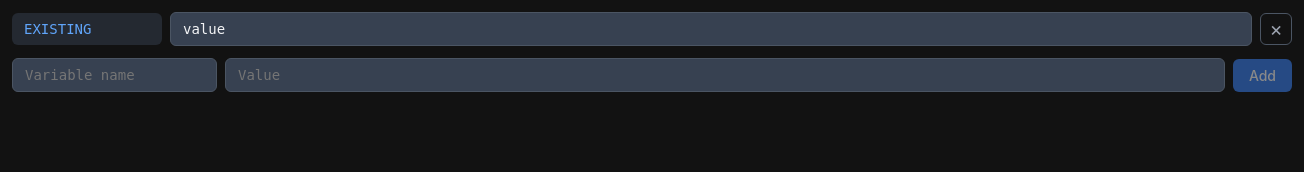
Scenario: EnvironmentVariableEditor › adding variables › shows error for duplicate variable name
The width and height of the screenshot is (1304, 172).
Type "EXISTING" into the field with test id "env-var-new-key".
click(114, 75); type("EXISTING")  # box [12,58,217,92]
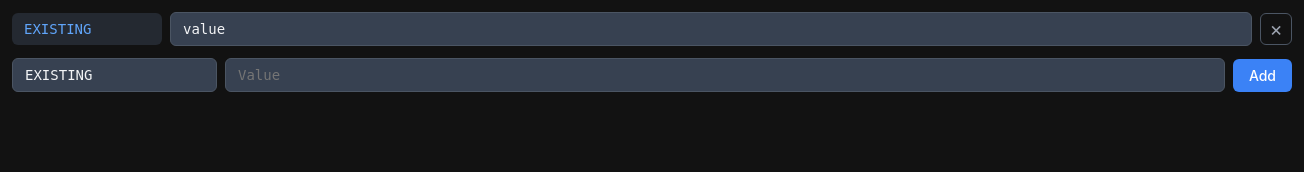
Click the button with test id "env-var-add-button".
click(1262, 75)  # box [1233,58,1292,92]
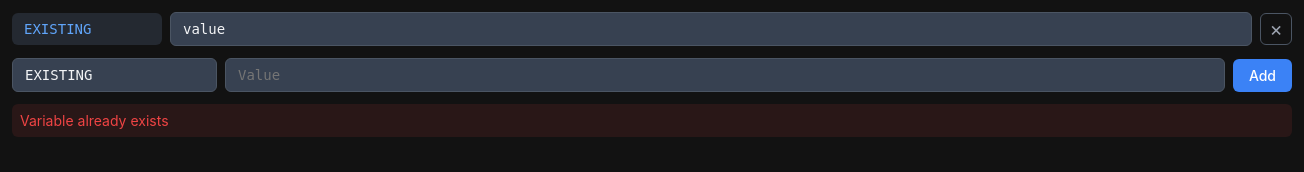
Check: the message with test id "env-var-error" reads "Variable already exists", box [20,112,168,129]
